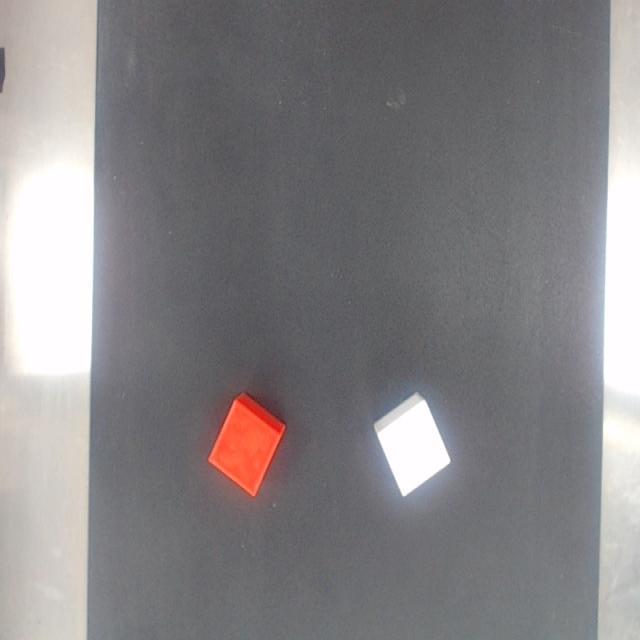Blanco: (374, 393, 450, 496)
Rojo: (208, 393, 285, 496)
